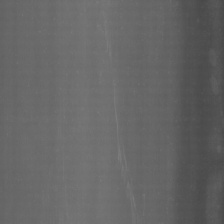silk_spot: (107, 90, 137, 185), (120, 158, 141, 224), (102, 28, 112, 69)
